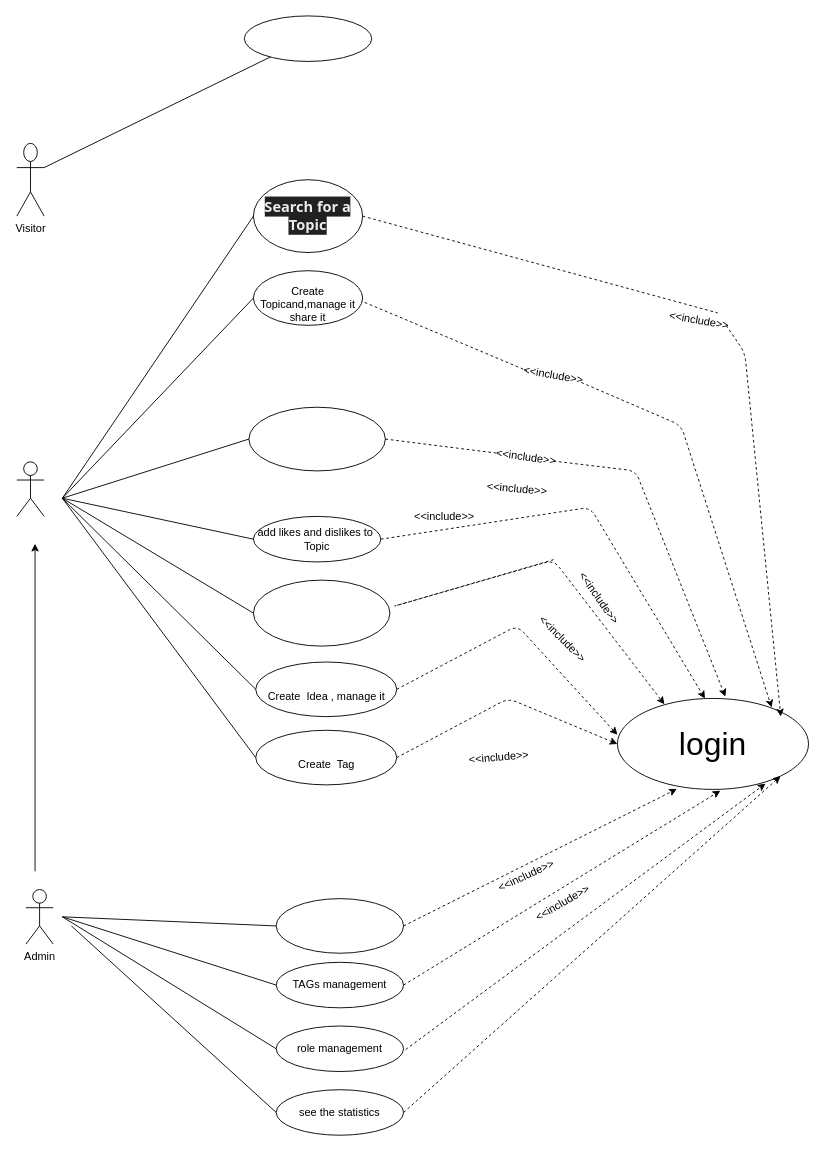
Some shapes in this 824 by 1151 pixel diagram are drawn without their labels. The shapes that lost their labels are listed below. From the top down, each one's centre as x and y in pixels, then its label:
At (307,38): "Create an account".
At (316,438): "Create Group , manage it".
At (30,488): "User".
At (321,612): "Create Componets , manage it".
At (339,925): "create categories, manage it".
